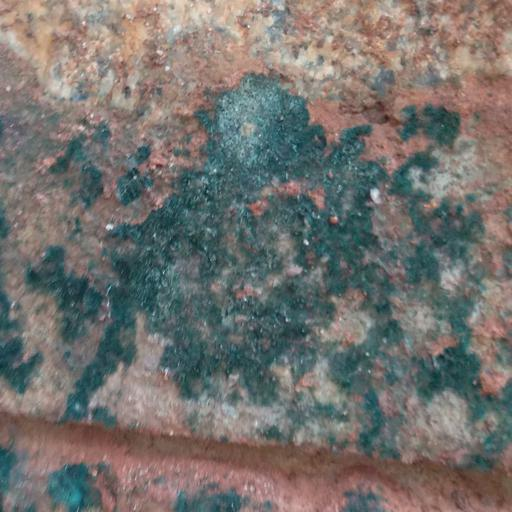algae: (55, 59, 512, 460)
